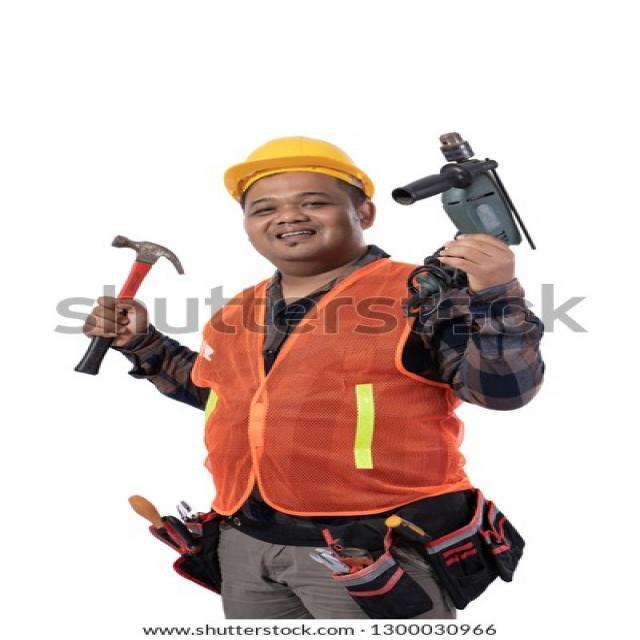hammer: (69, 220, 187, 385)
